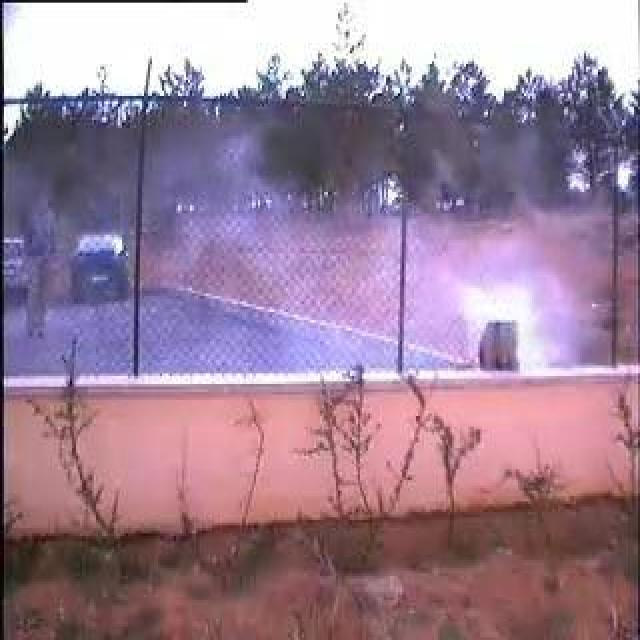Smoke: (373, 197, 567, 376)
